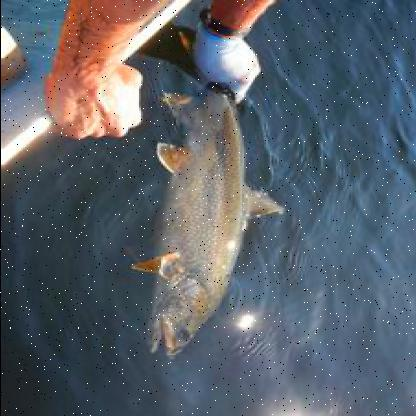fish: (128, 24, 286, 356)
